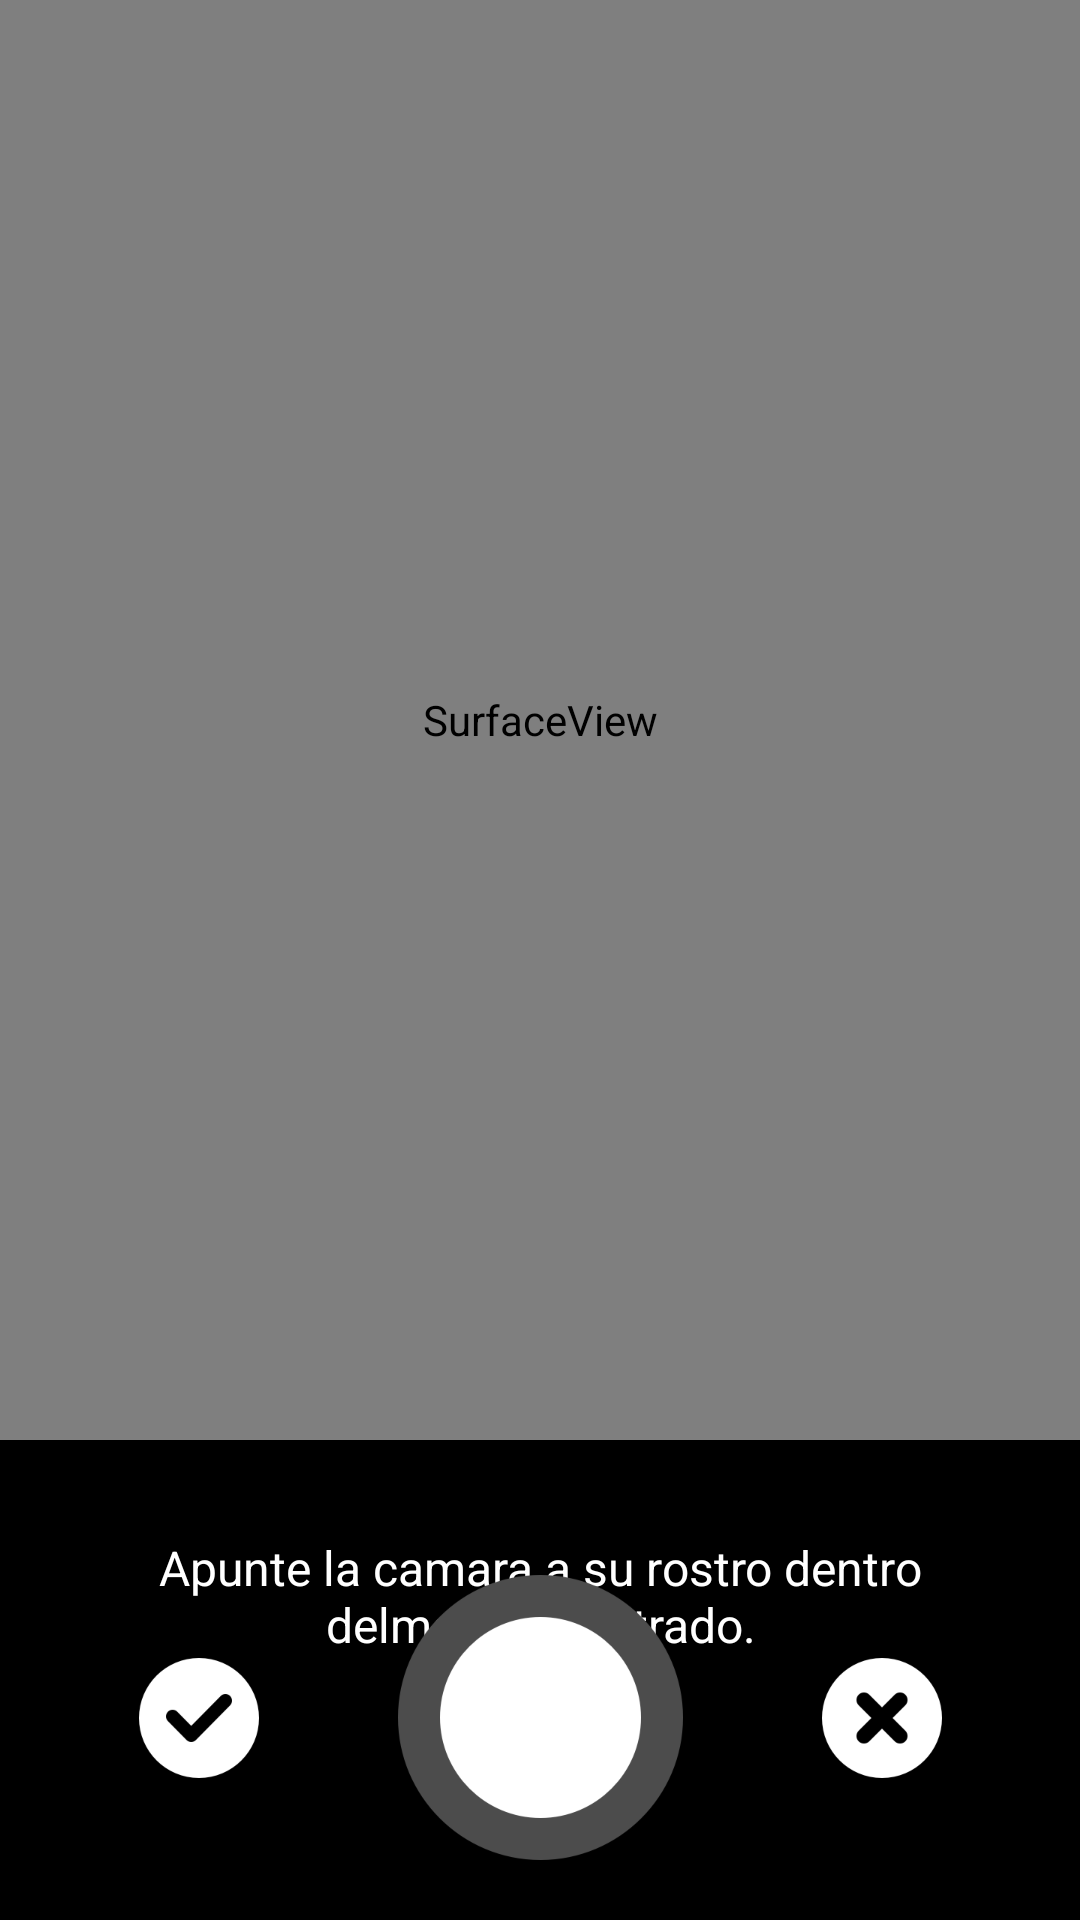

Point at icon controls on the screen. Image size 1080 x 1920, points as point (x, y).
pic cancel: point (882, 1718)
pic confirm: point (199, 1718)
take photo: point (540, 1717)
